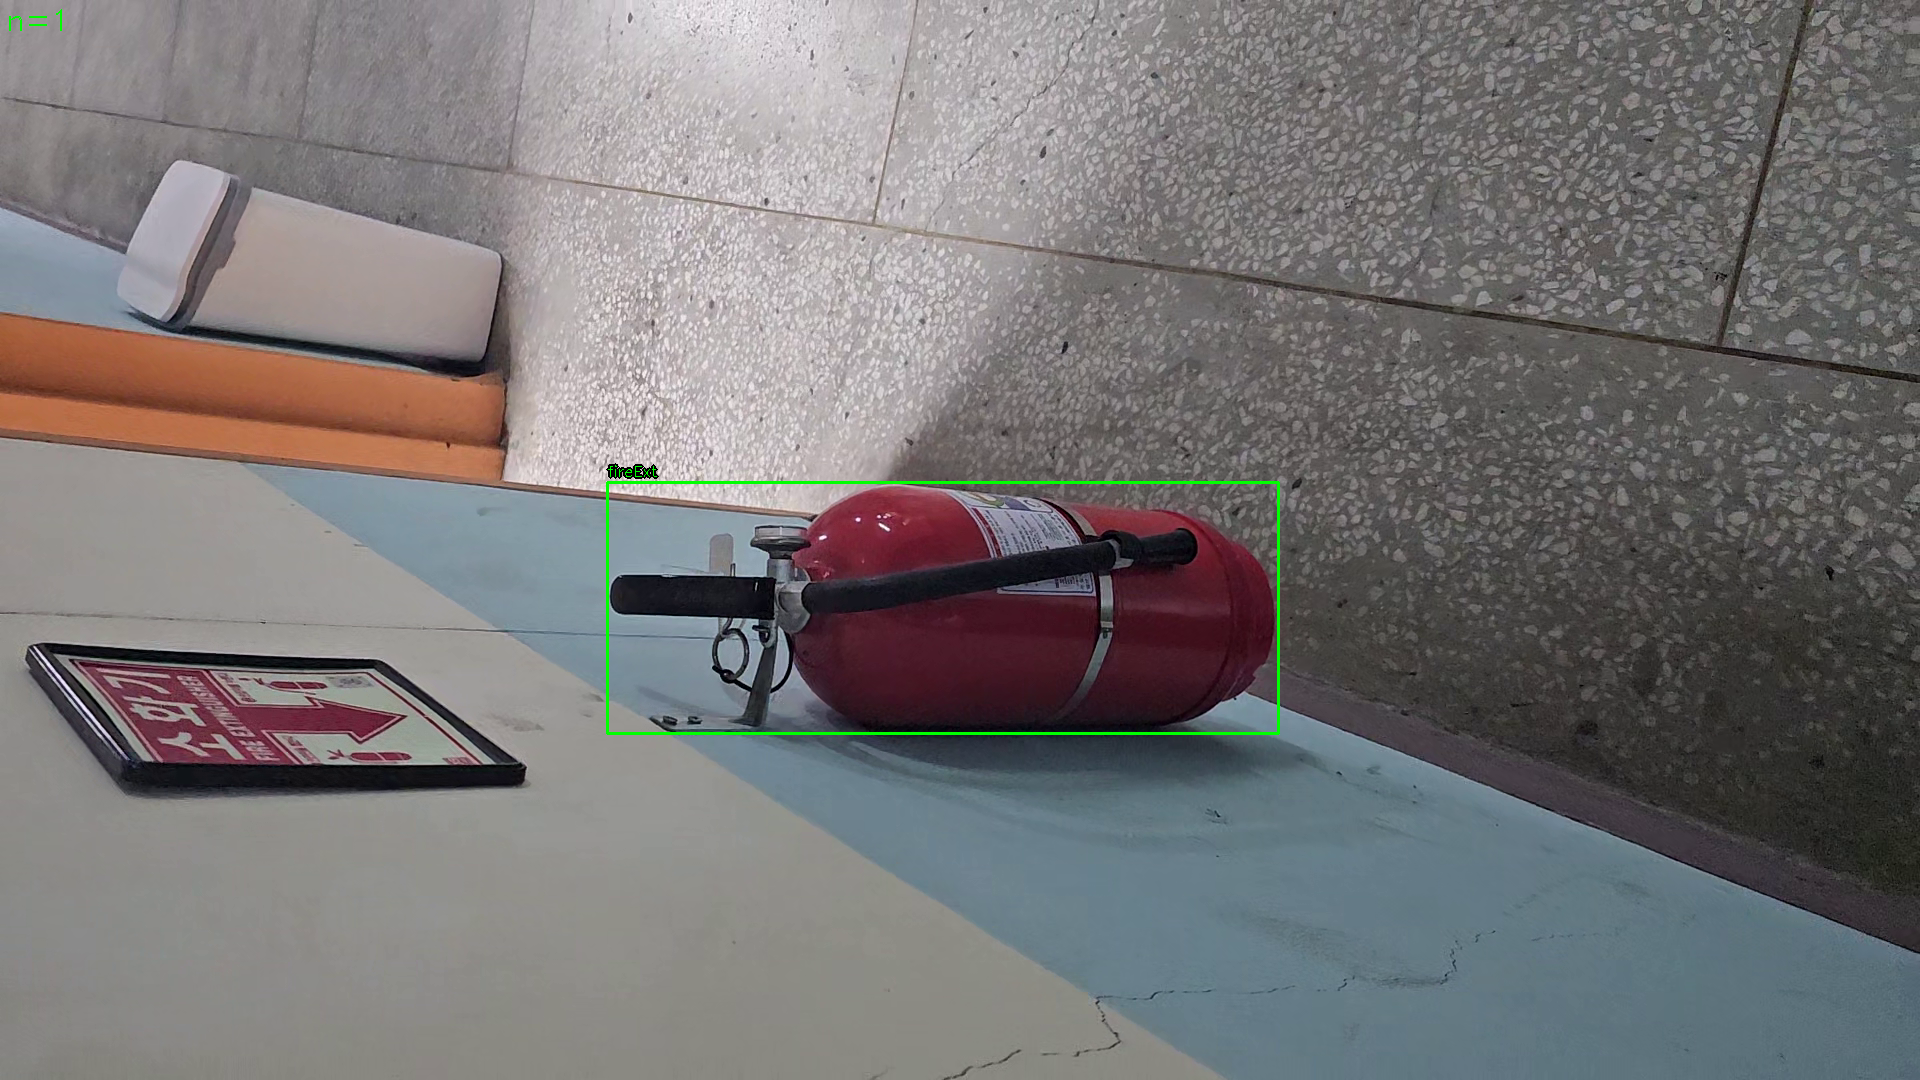lane: (607, 483, 1279, 735)
